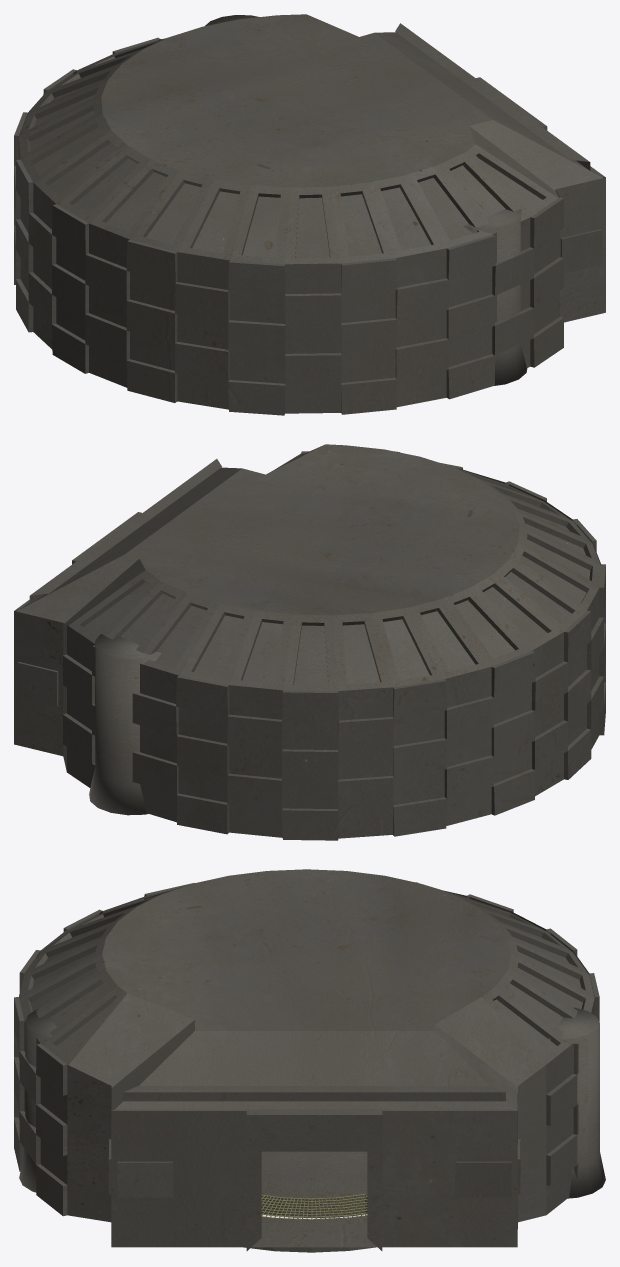
The model's file is Reacteur.fbx.
3 renders of one model, top to bottom at view 1: azimuth 30°, elevation 25°; view 2: azimuth 150°, elevation 25°; view 3: azimuth 270°, elevation 25°, orthographic. The views are drawn at different scales.
Parts seen in each view (by area): view 1: Circle.008, Circle.001, Circle.006; view 2: Circle.008, Circle.001, Circle.006; view 3: Circle.008, Circle.001, Circle.006, Circle.002.
Boxes of the visible parts, x1,y1,x2,y2 form: Circle.008: (19,14,603,264); Circle.001: (14,23,605,415); Circle.006: (205,15,527,385); Circle.008: (16,444,600,690); Circle.001: (14,451,605,840); Circle.006: (89,451,399,815); Circle.008: (19,869,594,1110); Circle.001: (14,882,599,1252); Circle.006: (19,1007,605,1198); Circle.002: (261,1194,367,1219).
Bounding box in the file's own units: 1645 × 768 × 1798.
